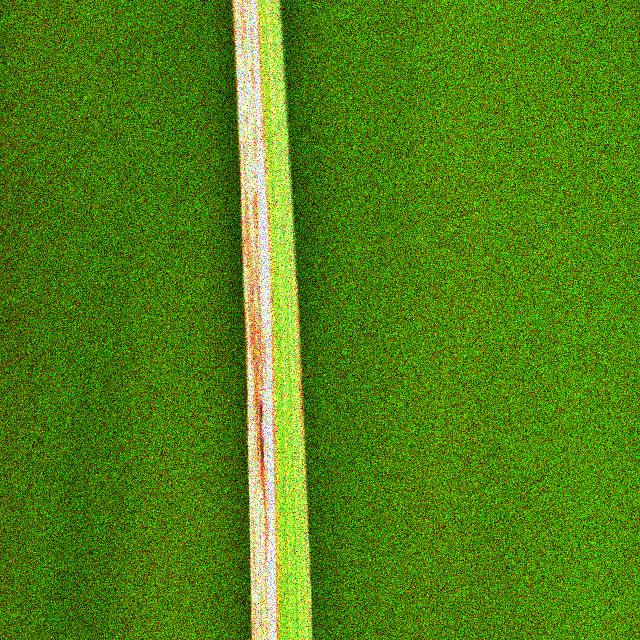BLB: (233, 0, 279, 640)
